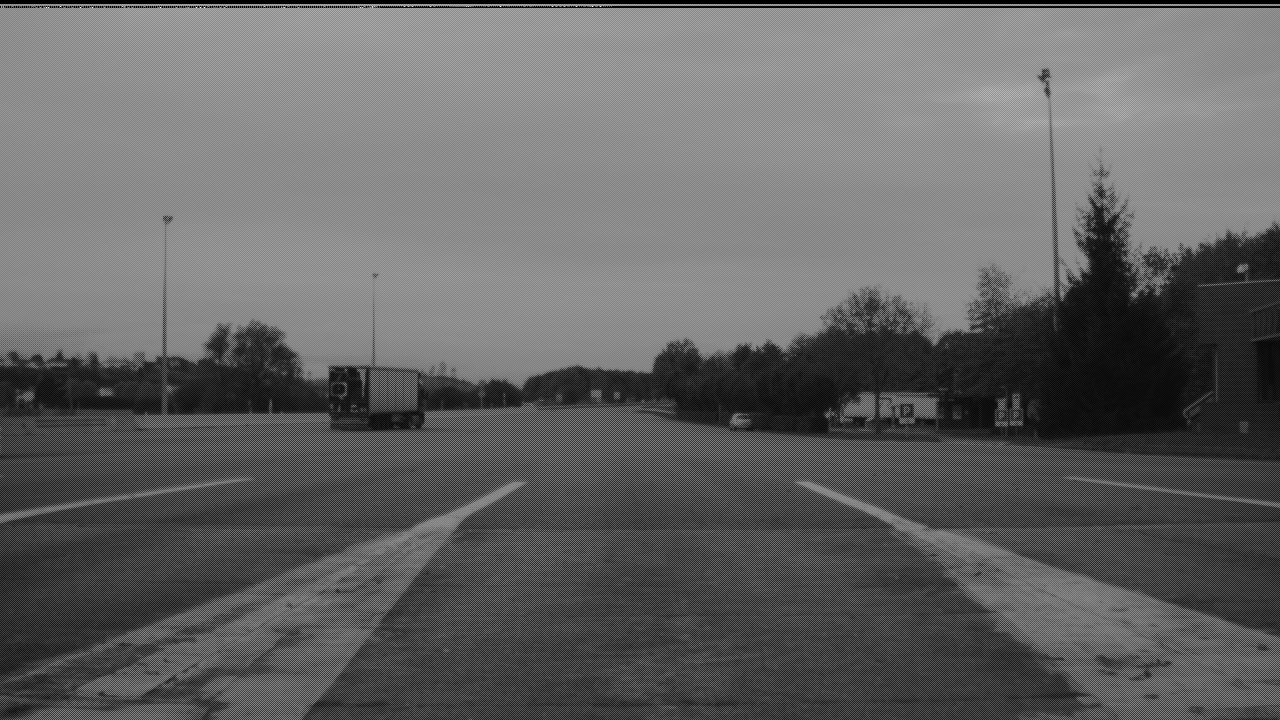pole: (1046, 61, 1059, 288), (160, 216, 168, 406), (371, 263, 376, 358)
